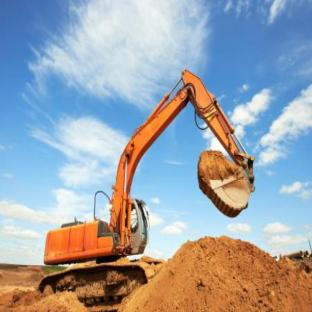ExcavationMachinery: (44, 68, 270, 302)
